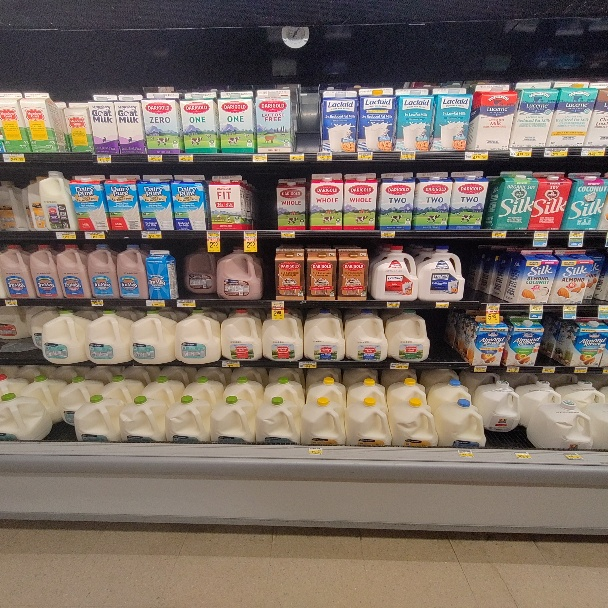All PRICE TAGS: (512, 147, 531, 158), (465, 151, 489, 159), (2, 154, 24, 162), (546, 148, 567, 156), (582, 148, 605, 155), (84, 231, 105, 238), (177, 299, 195, 307), (146, 299, 164, 307), (141, 231, 161, 238), (97, 155, 112, 164), (298, 361, 317, 368), (251, 154, 267, 162), (55, 232, 76, 238), (400, 151, 415, 159), (358, 151, 373, 159), (317, 152, 332, 160), (149, 154, 162, 163), (221, 360, 240, 366), (381, 230, 395, 238), (179, 154, 193, 162), (565, 453, 581, 460), (530, 303, 542, 312), (493, 230, 505, 239), (391, 363, 409, 369), (205, 231, 220, 238), (515, 453, 530, 460), (243, 231, 257, 238), (458, 450, 472, 457), (385, 301, 399, 308), (570, 230, 582, 238), (536, 230, 548, 238), (281, 231, 294, 238), (90, 299, 103, 306), (270, 300, 283, 307), (435, 302, 450, 308), (291, 153, 303, 160), (310, 447, 322, 454), (542, 367, 554, 374), (565, 305, 577, 312), (5, 299, 17, 305), (474, 366, 486, 372), (507, 367, 519, 373), (575, 367, 587, 373), (488, 305, 499, 311), (600, 305, 607, 312)
